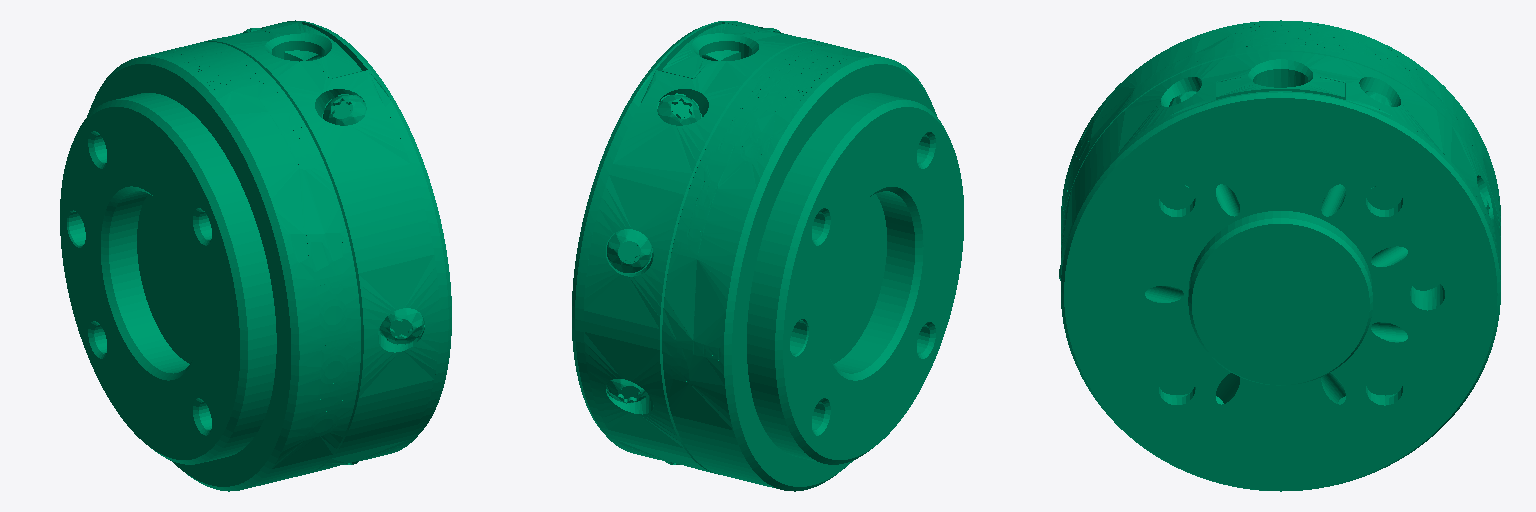
The robot description file, URDF, robot "ur5_robotiq85":
<?xml version="1.0" encoding="utf-8"?>
<robot name="ur5_robotiq85" path="ur5_spherized.urdf">
	<link name="offset_link"></link>
	<link name="base_link">
		<visual>
			<geometry>
				<mesh filename="package://meshes/ur5/visual/base.dae"></mesh>
			</geometry>
		</visual>
		<collision>
			<geometry>
				<sphere radius="0.08"></sphere>
			</geometry>
			<origin xyz="0.0 0.0 0.0" rpy="0 0 0"></origin>
		</collision>
		<inertial>
			<mass value="4.0"></mass>
			<origin rpy="0 0 0" xyz="0.0 0.0 0.0"></origin>
			<inertia ixx="0.00443333156" ixy="0.0" ixz="0.0" iyy="0.00443333156" iyz="0.0" izz="0.0072"></inertia>
		</inertial>
	</link>
	<link name="shoulder_link">
		<visual>
			<geometry>
				<mesh filename="package://meshes/ur5/visual/shoulder.dae"></mesh>
			</geometry>
		</visual>
		<collision>
			<geometry>
				<sphere radius="0.08"></sphere>
			</geometry>
			<origin xyz="0.0 0.0 0.0" rpy="0 0 0"></origin>
		</collision>
		<inertial>
			<mass value="3.7"></mass>
			<origin rpy="0 0 0" xyz="0.0 0.0 0.0"></origin>
			<inertia ixx="0.010267495893" ixy="0.0" ixz="0.0" iyy="0.010267495893" iyz="0.0" izz="0.00666"></inertia>
		</inertial>
	</link>
	<link name="upper_arm_link">
		<visual>
			<geometry>
				<mesh filename="package://meshes/ur5/visual/upperarm.dae"></mesh>
			</geometry>
		</visual>
		<collision>
			<geometry>
				<sphere radius="0.29"></sphere>
			</geometry>
			<origin xyz="-0.0 0.0 0.21" rpy="0 0 0"></origin>
		</collision>
		<inertial>
			<mass value="8.393"></mass>
			<origin rpy="0 0 0" xyz="0.0 0.0 0.28"></origin>
			<inertia ixx="0.22689067591036005" ixy="0.0" ixz="0.0" iyy="0.22689067591036005" iyz="0.0" izz="0.0151074"></inertia>
		</inertial>
	</link>
	<link name="forearm_link">
		<visual>
			<geometry>
				<mesh filename="package://meshes/ur5/visual/forearm.dae"></mesh>
			</geometry>
		</visual>
		<collision>
			<geometry>
				<sphere radius="0.265"></sphere>
			</geometry>
			<origin xyz="0.002 0.003 0.185" rpy="0 0 0"></origin>
		</collision>
		<inertial>
			<mass value="2.275"></mass>
			<origin rpy="0 0 0" xyz="0.0 0.0 0.25"></origin>
			<inertia ixx="0.04944331355599999" ixy="0.0" ixz="0.0" iyy="0.04944331355599999" iyz="0.0" izz="0.004095"></inertia>
		</inertial>
	</link>
	<link name="wrist_1_link">
		<visual>
			<geometry>
				<mesh filename="package://meshes/ur5/visual/wrist1.dae"></mesh>
			</geometry>
		</visual>
		<collision>
			<geometry>
				<sphere radius="0.07"></sphere>
			</geometry>
			<origin xyz="0.0 0.09 -0.0" rpy="0 0 0"></origin>
		</collision>
		<inertial>
			<mass value="1.219"></mass>
			<origin rpy="0 0 0" xyz="0.0 0.0 0.0"></origin>
			<inertia ixx="0.11117275553087999" ixy="0.0" ixz="0.0" iyy="0.11117275553087999" iyz="0.0" izz="0.21942"></inertia>
		</inertial>
	</link>
	<link name="wrist_2_link">
		<visual>
			<geometry>
				<mesh filename="package://meshes/ur5/visual/wrist2.dae"></mesh>
			</geometry>
		</visual>
		<collision>
			<geometry>
				<sphere radius="0.07"></sphere>
			</geometry>
			<origin xyz="0.0 0.0 0.09" rpy="0 0 0"></origin>
		</collision>
		<inertial>
			<mass value="1.219"></mass>
			<origin rpy="0 0 0" xyz="0.0 0.0 0.0"></origin>
			<inertia ixx="0.11117275553087999" ixy="0.0" ixz="0.0" iyy="0.11117275553087999" iyz="0.0" izz="0.21942"></inertia>
		</inertial>
	</link>
	<link name="wrist_3_link">
		<visual>
			<geometry>
				<mesh filename="package://meshes/ur5/visual/wrist3.dae"></mesh>
			</geometry>
		</visual>
		<collision>
			<geometry>
				<sphere radius="0.04"></sphere>
			</geometry>
			<origin xyz="0.0 0.06 0.0" rpy="0 0 0"></origin>
		</collision>
		<inertial>
			<mass value="0.1879"></mass>
			<origin rpy="0 0 0" xyz="0.0 0.0 0.0"></origin>
			<inertia ixx="0.017136473145408" ixy="0.0" ixz="0.0" iyy="0.017136473145408" iyz="0.0" izz="0.033822"></inertia>
		</inertial>
	</link>
	<link name="ee_link"></link>
	<link name="tool0"></link>
	<link name="fts_robotside">
		<inertial>
			<origin rpy="0 0 0" xyz="0 0 0.01875"></origin>
			<mass value="0.65"></mass>
			<inertia ixx="0.000661171875" ixy="0" ixz="0" iyy="0.000661171875" iyz="0" izz="0.00117"></inertia>
		</inertial>
		<visual>
			<origin rpy="0 0 0" xyz="0 0 0"></origin>
			<geometry>
				<mesh filename="package://meshes/robotiq_fts300.stl"></mesh>
			</geometry>
		</visual>
		<collision>
			<geometry>
				<sphere radius="0.04"></sphere>
			</geometry>
			<origin xyz="0.0 -0.02 0.0" rpy="0 0 0"></origin>
		</collision>
	</link>
	<link name="robotiq_force_torque_frame_id"></link>
	<link name="fts_toolside"></link>
	<link name="robotiq_85_base_link">
		<inertial>
			<origin xyz="0.00021987 -2.3546E-10 0.030163" rpy="0 0 0"></origin>
			<mass value="0.30915"></mass>
			<inertia ixx="0.00028972" ixy="-5.7879E-10" ixz="-1.8543E-06" iyy="0.00030737" iyz="1.682E-12" izz="0.00019914"></inertia>
		</inertial>
		<visual>
			<origin xyz="0 0 0" rpy="0 0 0"></origin>
			<geometry>
				<mesh filename="package://meshes/robotiq/robotiq_85_base_link_fine.STL"></mesh>
			</geometry>
		</visual>
		<collision>
			<geometry>
				<sphere radius="0.06"></sphere>
			</geometry>
			<origin xyz="0.0 -0.0 0.04" rpy="0 0 0"></origin>
		</collision>
	</link>
	<link name="robotiq_85_left_knuckle_link">
		<inertial>
			<origin xyz="0.0178331863169983 3.68915177224286E-11 0.0021442477325704" rpy="0 0 0"></origin>
			<mass value="0.00684838849434396"></mass>
			<inertia ixx="2.66832029033166E-07" ixy="1.66142314639824E-15" ixz="1.45945633322873E-07" iyy="1.3889233257419E-06" iyz="2.82951161241588E-15" izz="1.26603336914415E-06"></inertia>
		</inertial>
		<visual>
			<origin xyz="0 0 0" rpy="0 0 0"></origin>
			<geometry>
				<mesh filename="meshes/robotiq/outer_knuckle_fine.STL"></mesh>
			</geometry>
		</visual>
		<collision>
			<geometry>
				<sphere radius="0.02"></sphere>
			</geometry>
			<origin xyz="0.0 0.0 0.0" rpy="0 0 0"></origin>
		</collision>
	</link>
	<link name="robotiq_85_left_finger_link">
		<inertial>
			<origin xyz="0.00131451599174296 2.88942057994543E-15 0.0215404163180413" rpy="0 0 0"></origin>
			<mass value="0.0273093985570947"></mass>
			<inertia ixx="8.51629628283022E-06" ixy="2.58174336207405E-19" ixz="3.83829504344079E-07" iyy="6.9133328065108E-06" iyz="-7.58589926143789E-19" izz="2.25006832221981E-06"></inertia>
		</inertial>
		<visual>
			<origin xyz="0 0 0" rpy="0 0 0"></origin>
			<geometry>
				<mesh filename="meshes/robotiq/outer_finger_fine.STL"></mesh>
			</geometry>
			<material name="">
				<color rgba="0.1 0.1 0.1 1"></color>
			</material>
		</visual>
		<collision>
			<geometry>
				<sphere radius="0.035"></sphere>
			</geometry>
			<origin xyz="-0.0 -0.0 0.02" rpy="0 0 0"></origin>
		</collision>
	</link>
	<link name="robotiq_85_left_inner_knuckle_link">
		<inertial>
			<origin xyz="0.017097546626628 -3.93808524389535E-10 0.0224918438201868" rpy="0 0 0"></origin>
			<mass value="0.0110930853895903"></mass>
			<inertia ixx="4.23392770691541E-06" ixy="5.748978936968E-15" ixz="1.78855677119788E-06" iyy="3.96548790524392E-06" iyz="1.05464666369669E-14" izz="3.24068002883007E-06"></inertia>
		</inertial>
		<visual>
			<origin xyz="0 0 0" rpy="0 0 0"></origin>
			<geometry>
				<mesh filename="meshes/robotiq/inner_knuckle_fine.STL"></mesh>
			</geometry>
			<material name="">
				<color rgba="0.1 0.1 0.1 1"></color>
			</material>
		</visual>
		<collision>
			<geometry>
				<sphere radius="0.02"></sphere>
			</geometry>
			<origin xyz="0.02 0.0 0.02" rpy="0 0 0"></origin>
		</collision>
	</link>
	<link name="robotiq_85_left_finger_tip_link">
		<inertial>
			<origin xyz="0.0060275613594574 -6.29183141465421E-15 0.00669925693133241" rpy="0 0 0"></origin>
			<mass value="0.00724255346165745"></mass>
			<inertia ixx="1.47824274053603E-06" ixy="-3.94884463570303E-19" ixz="-3.45268847648622E-07" iyy="1.70064480838395E-06" iyz="3.5059838910097E-19" izz="4.77151336838364E-07"></inertia>
		</inertial>
		<visual>
			<origin xyz="0 0 0" rpy="0 0 0"></origin>
			<geometry>
				<mesh filename="meshes/robotiq/inner_finger_fine.STL"></mesh>
			</geometry>
			<material name="">
				<color rgba="0.1 0.1 0.1 1"></color>
			</material>
		</visual>
		<collision>
			<geometry>
				<sphere radius="0.033"></sphere>
			</geometry>
			<origin xyz="0.0 0.0 0.013" rpy="0 0 0"></origin>
		</collision>
	</link>
	<link name="robotiq_85_right_inner_knuckle_link">
		<inertial>
			<origin xyz="0.0168606186773776 3.93808471820465E-10 0.0226699950793434" rpy="0 0 0"></origin>
			<mass value="0.0110930853895903"></mass>
			<inertia ixx="4.27134775939882E-06" ixy="-8.53568456728898E-15" ixz="1.77774229944246E-06" iyy="3.96548790524392E-06" iyz="-8.45108024914164E-15" izz="3.20325997634666E-06"></inertia>
		</inertial>
		<visual>
			<origin xyz="0 0 0" rpy="0 0 0"></origin>
			<geometry>
				<mesh filename="meshes/robotiq/inner_knuckle_fine.STL"></mesh>
			</geometry>
			<material name="">
				<color rgba="0.1 0.1 0.1 1"></color>
			</material>
		</visual>
		<collision>
			<geometry>
				<sphere radius="0.02"></sphere>
			</geometry>
			<origin xyz="0.02 0.0 0.02" rpy="0 0 0"></origin>
		</collision>
	</link>
	<link name="robotiq_85_right_finger_tip_link">
		<inertial>
			<origin xyz="0.00602756228812038 -6.47284509480176E-15 0.00669925609578108" rpy="0 0 0"></origin>
			<mass value="0.00724255346165744"></mass>
			<inertia ixx="1.47824283625957E-06" ixy="-3.95952064019123E-19" ixz="-3.45268708875543E-07" iyy="1.70064480838394E-06" iyz="3.55286507960029E-19" izz="4.77151241114822E-07"></inertia>
		</inertial>
		<visual>
			<origin xyz="0 0 0" rpy="0 0 0"></origin>
			<geometry>
				<mesh filename="meshes/robotiq/inner_finger_fine.STL"></mesh>
			</geometry>
			<material name="">
				<color rgba="0.1 0.1 0.1 1"></color>
			</material>
		</visual>
		<collision>
			<geometry>
				<sphere radius="0.033"></sphere>
			</geometry>
			<origin xyz="0.0 0.0 0.013" rpy="0 0 0"></origin>
		</collision>
	</link>
	<link name="robotiq_85_right_knuckle_link">
		<inertial>
			<origin xyz="0.0178097074051638 3.60493211424024E-11 0.00233123458346721" rpy="0 0 0"></origin>
			<mass value="0.00684838849401352"></mass>
			<inertia ixx="2.70004361573169E-07" ixy="1.59579467624491E-15" ixz="1.56396493788199E-07" iyy="1.38892332558312E-06" iyz="2.82357800318817E-15" izz="1.26286103637978E-06"></inertia>
		</inertial>
		<visual>
			<origin xyz="0 0 0" rpy="0 0 0"></origin>
			<geometry>
				<mesh filename="meshes/robotiq/outer_knuckle_fine.STL"></mesh>
			</geometry>
			<material name="">
				<color rgba="0.1 0.1 0.1 1"></color>
			</material>
		</visual>
		<collision>
			<geometry>
				<sphere radius="0.02"></sphere>
			</geometry>
			<origin xyz="0.0 0.0 0.0" rpy="0 0 0"></origin>
		</collision>
	</link>
	<link name="robotiq_85_right_finger_link">
		<inertial>
			<origin xyz="0.00108844269639009 -2.611488350845E-15 0.0215530225245502" rpy="0 0 0"></origin>
			<mass value="0.0273093985570947"></mass>
			<inertia ixx="8.52366028592721E-06" ixy="3.41683380899422E-19" ixz="3.18003675694284E-07" iyy="6.91333280651081E-06" iyz="7.37726682706417E-19" izz="2.24270431912283E-06"></inertia>
		</inertial>
		<visual>
			<origin xyz="0 0 0" rpy="0 0 0"></origin>
			<geometry>
				<mesh filename="meshes/robotiq/outer_finger_fine.STL"></mesh>
			</geometry>
			<material name="">
				<color rgba="0.1 0.1 0.1 1"></color>
			</material>
		</visual>
		<collision>
			<geometry>
				<sphere radius="0.035"></sphere>
			</geometry>
			<origin xyz="-0.0 -0.0 0.02" rpy="0 0 0"></origin>
		</collision>
	</link>
	<joint name="offset_joint" type="fixed">
		<parent link="offset_link"></parent>
		<child link="base_link"></child>
		<origin xyz="0.0 0.0 0.9144" rpy="0 0 1.57"></origin>
	</joint>
	<joint name="shoulder_pan_joint" type="revolute">
		<parent link="base_link"></parent>
		<child link="shoulder_link"></child>
		<origin rpy="0 0.0 0" xyz="0.0 0.0 0.089159"></origin>
		<axis xyz="0 0 1"></axis>
		<limit effort="150.0" lower="-3.14159265" upper="3.14159265" velocity="0.5"></limit>
		<dynamics damping="0.0" friction="0.0"></dynamics>
	</joint>
	<joint name="shoulder_lift_joint" type="revolute">
		<parent link="shoulder_link"></parent>
		<child link="upper_arm_link"></child>
		<origin rpy="0.0 1.570796325 0.0" xyz="0.0 0.13585 0.0"></origin>
		<axis xyz="0 1 0"></axis>
		<limit effort="150.0" lower="-3.14159265" upper="3.14159265" velocity="0.5"></limit>
		<dynamics damping="0.0" friction="0.0"></dynamics>
	</joint>
	<joint name="elbow_joint" type="revolute">
		<parent link="upper_arm_link"></parent>
		<child link="forearm_link"></child>
		<origin rpy="0.0 0.0 0.0" xyz="0.0 -0.1197 0.425"></origin>
		<axis xyz="0 1 0"></axis>
		<limit effort="150.0" lower="-3.14159265" upper="3.14159265" velocity="0.5"></limit>
		<dynamics damping="0.0" friction="0.0"></dynamics>
	</joint>
	<joint name="wrist_1_joint" type="revolute">
		<parent link="forearm_link"></parent>
		<child link="wrist_1_link"></child>
		<origin rpy="0.0 1.570796325 0.0" xyz="0.0 0.0 0.39225"></origin>
		<axis xyz="0 1 0"></axis>
		<limit effort="28.0" lower="-3.14159265" upper="3.14159265" velocity="0.5"></limit>
		<dynamics damping="0.0" friction="0.0"></dynamics>
	</joint>
	<joint name="wrist_2_joint" type="revolute">
		<parent link="wrist_1_link"></parent>
		<child link="wrist_2_link"></child>
		<origin rpy="0.0 0.0 0.0" xyz="0.0 0.093 0.0"></origin>
		<axis xyz="0 0 1"></axis>
		<limit effort="28.0" lower="-3.14159265" upper="3.14159265" velocity="0.5"></limit>
		<dynamics damping="0.0" friction="0.0"></dynamics>
	</joint>
	<joint name="wrist_3_joint" type="revolute">
		<parent link="wrist_2_link"></parent>
		<child link="wrist_3_link"></child>
		<origin rpy="0.0 0.0 0.0" xyz="0.0 0.0 0.09465"></origin>
		<axis xyz="0 1 0"></axis>
		<limit effort="28.0" lower="-3.14159265" upper="3.14159265" velocity="0.5"></limit>
		<dynamics damping="0.0" friction="0.0"></dynamics>
	</joint>
	<joint name="ee_fixed_joint" type="fixed">
		<parent link="wrist_3_link"></parent>
		<child link="ee_link"></child>
		<origin rpy="0.0 0.0 1.570796325" xyz="0.0 0.0823 0.0"></origin>
	</joint>
	<joint name="wrist_3_link-tool0_fixed_joint" type="fixed">
		<origin rpy="-1.570796325 0 0" xyz="0 0.0823 0"></origin>
		<parent link="wrist_3_link"></parent>
		<child link="tool0"></child>
	</joint>
	<joint name="fts_fix" type="fixed">
		<origin rpy="0.0 0 -1.57" xyz="0.035 0 0.0"></origin>
		<parent link="ee_link"></parent>
		<child link="fts_robotside"></child>
	</joint>
	<joint name="measurment_joint" type="fixed">
		<origin rpy="0 0 0" xyz="0 0 0.01625"></origin>
		<parent link="fts_robotside"></parent>
		<child link="robotiq_force_torque_frame_id"></child>
	</joint>
	<joint name="toolside_joint" type="fixed">
		<origin rpy="0 0 0" xyz="0 0 0.0375"></origin>
		<parent link="fts_robotside"></parent>
		<child link="fts_toolside"></child>
	</joint>
	<joint name="robotiq_85_base_joint" type="fixed">
		<parent link="fts_toolside"></parent>
		<child link="robotiq_85_base_link"></child>
		<origin rpy="-1.57 0.0 0.0" xyz="0.0 0.0 -0.037"></origin>
	</joint>
	<joint name="robotiq_85_left_knuckle_joint" type="fixed">
		<origin xyz="0.0306011444260539 0 0.0627920162695395" rpy="0 0 0"></origin>
		<parent link="robotiq_85_base_link"></parent>
		<child link="robotiq_85_left_knuckle_link"></child>
		<axis xyz="0 -1 0"></axis>
	</joint>
	<joint name="robotiq_85_left_finger_joint" type="fixed">
		<origin xyz="0.0316910442266543 0 -0.00193396375724605" rpy="0 0 0"></origin>
		<parent link="robotiq_85_left_knuckle_link"></parent>
		<child link="robotiq_85_left_finger_link"></child>
		<axis xyz="0 -1 0"></axis>
	</joint>
	<joint name="robotiq_85_left_inner_knuckle_joint" type="fixed">
		<origin xyz="0.0127000000001501 0 0.0693074999999639" rpy="0 0 0"></origin>
		<parent link="robotiq_85_base_link"></parent>
		<child link="robotiq_85_left_inner_knuckle_link"></child>
		<axis xyz="0 -1 0"></axis>
	</joint>
	<joint name="robotiq_85_left_finger_tip_joint" type="fixed">
		<origin xyz="0.034585310861294 0 0.0454970193817975" rpy="0 0 0"></origin>
		<parent link="robotiq_85_left_inner_knuckle_link"></parent>
		<child link="robotiq_85_left_finger_tip_link"></child>
		<axis xyz="0 -1 0"></axis>
	</joint>
	<joint name="robotiq_85_right_inner_knuckle_joint" type="fixed">
		<origin xyz="-0.0126999999998499 0 0.0693075000000361" rpy="0 0 3.14159265358979"></origin>
		<parent link="robotiq_85_base_link"></parent>
		<child link="robotiq_85_right_inner_knuckle_link"></child>
		<axis xyz="0 1 0"></axis>
	</joint>
	<joint name="robotiq_85_right_finger_tip_joint" type="fixed">
		<origin xyz="0.0341060475457406 0 0.0458573878541688" rpy="0 0 0"></origin>
		<parent link="robotiq_85_right_inner_knuckle_link"></parent>
		<child link="robotiq_85_right_finger_tip_link"></child>
		<axis xyz="0 1 0"></axis>
	</joint>
	<joint name="robotiq_85_right_knuckle_joint" type="fixed">
		<origin xyz="-0.0306011444258893 0 0.0627920162695395" rpy="0 0 3.14159265358979"></origin>
		<parent link="robotiq_85_base_link"></parent>
		<child link="robotiq_85_right_knuckle_link"></child>
		<axis xyz="0 1 0"></axis>
	</joint>
	<joint name="robotiq_85_right_finger_joint" type="fixed">
		<origin xyz="0.0317095909367246 0 -0.0016013564954687" rpy="0 0 0"></origin>
		<parent link="robotiq_85_right_knuckle_link"></parent>
		<child link="robotiq_85_right_finger_link"></child>
		<axis xyz="0 1 0"></axis>
	</joint>
</robot>

--- Facts derived from the render (not from the file) ---
The picture shows the robot from 3 angles, left to right: view 1: azimuth 30°, elevation 25°; view 2: azimuth 150°, elevation 25°; view 3: azimuth 270°, elevation 25°; orthographic projection.
Robot: ur5_robotiq85 — 22 links, 21 joints (6 revolute, 15 fixed); root link offset_link; default pose: every joint at zero.
Links seen in each view (by area): view 1: fts_robotside; view 2: fts_robotside; view 3: fts_robotside.
Link boxes in pixels (x1,y1,x2,y2): fts_robotside: (60,20,451,491); fts_robotside: (572,21,963,491); fts_robotside: (1059,20,1500,491).
Bounding box of the posed robot: 0.0416 × 0.0754 × 0.075 m (x, y, z).
1 mesh visuals loaded from 13 distinct referenced files (1 binary STL); not drawn: 16 (reference not matched to a file when rendering).